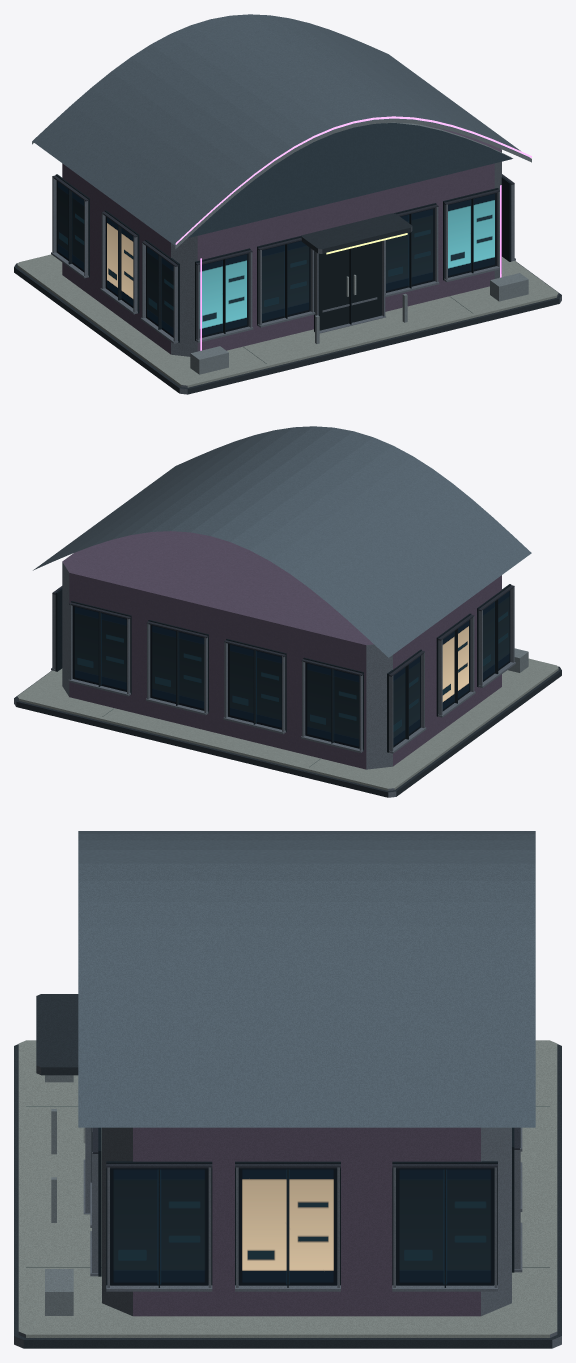
The model's file is 05-games-annex-01.glb.
3 views of the same model, one above another, from view 1: azimuth 30°, elevation 25°; view 2: azimuth 150°, elevation 25°; view 3: azimuth 270°, elevation 25° (orthographic). The views are drawn at different scales.
Visible parts, largest first — view 1: games_architecture; view 2: games_architecture; view 3: games_architecture.
Boxes of the visible parts, x1=… form: games_architecture: x1=14, y1=14, x2=561, y2=394; games_architecture: x1=14, y1=426, x2=561, y2=797; games_architecture: x1=14, y1=831, x2=561, y2=1348.
Size of the model in its own units: 14.8 by 7.89 by 11.5.
Materials: 2 (2 with a texture image).
